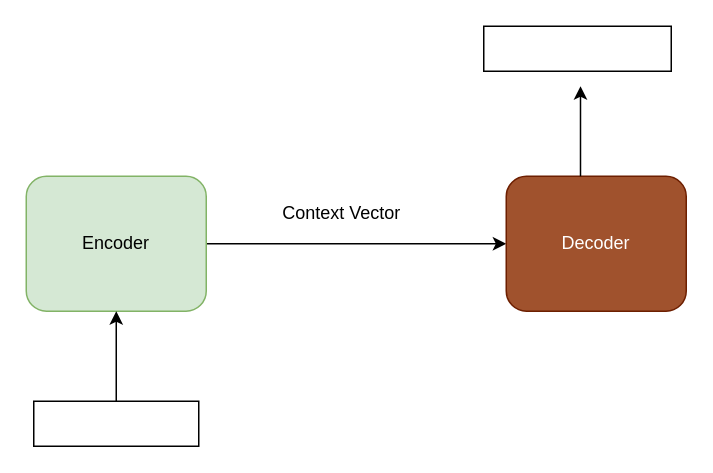
Some shapes in this 713 by 473 pixel diagram are drawn without their labels. Here are the shapes that lost their labels. From the top down, the centre of each, then its label:
(576,48): आपसे मिलकर अच्छा लगा
(115,423): Nice to meet you
